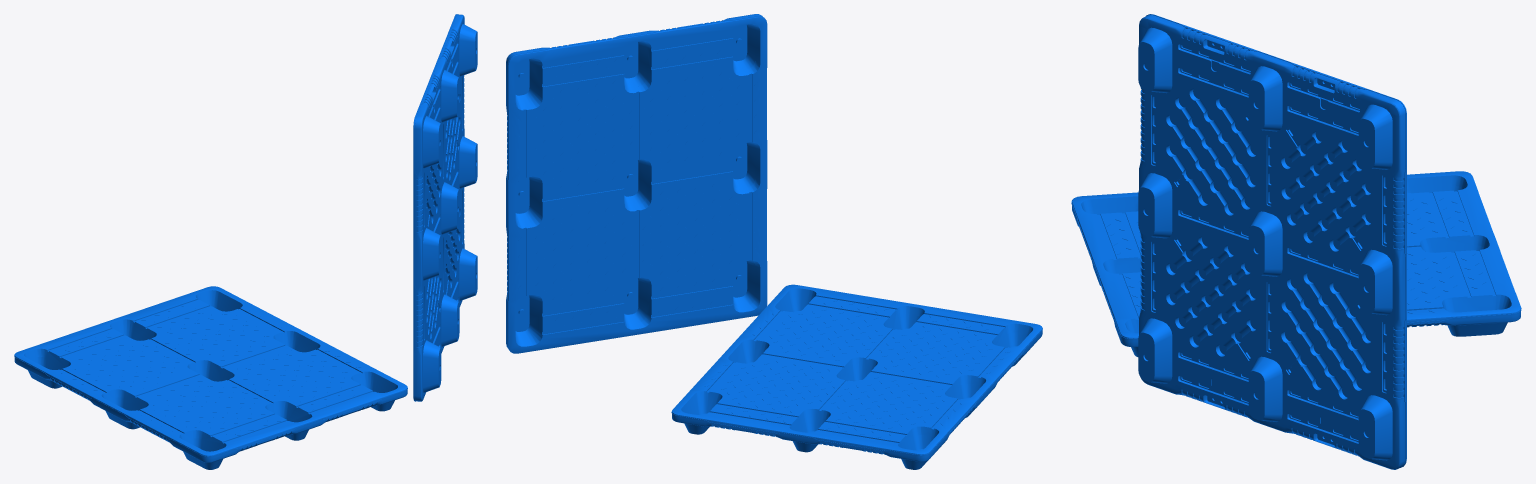
The model's file is pallet_single_side.glb.
The picture shows the model from 3 angles, left to right: view 1: azimuth 30°, elevation 25°; view 2: azimuth 150°, elevation 25°; view 3: azimuth 270°, elevation 25°; orthographic projection. The views are drawn at different scales.
Parts seen in each view (by area): view 1: Cube.115; view 2: Cube.115; view 3: Cube.115.
Part boxes in pixels (x1,y1,x2,y2): Cube.115: [14, 14, 477, 469]; Cube.115: [506, 14, 1042, 469]; Cube.115: [1071, 14, 1521, 469].
Bounding box in the file's own units: 3.66 × 2.32 × 2.57.
